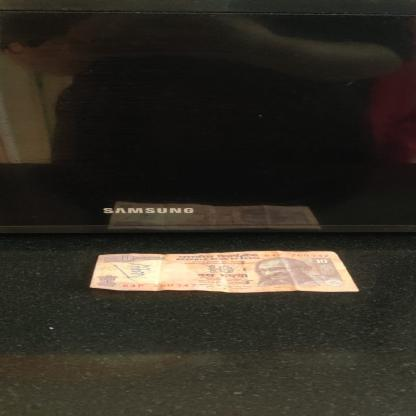Old10Front: (86, 250, 362, 295)
